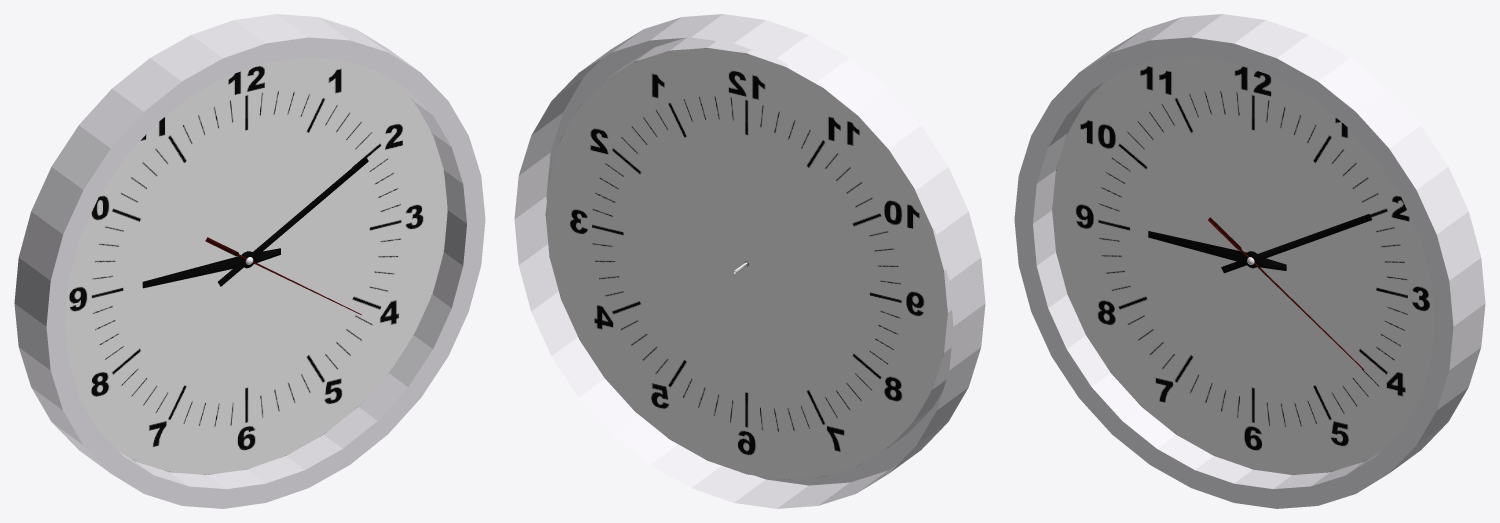
3 views of the same model, side by side, from view 1: azimuth 30°, elevation 25°; view 2: azimuth 150°, elevation 25°; view 3: azimuth 330°, elevation 25° (orthographic).
Parts seen in each view (by area): view 1: O-20; view 2: O-20; view 3: O-20.
Part boxes in pixels (<box>): O-20: <box>14,14,485,508</box>; O-20: <box>514,14,985,508</box>; O-20: <box>1014,14,1485,508</box>.
Size of the model in its own units: 40 by 40 by 5.05.
Materials: 5 (1 with a texture image).
